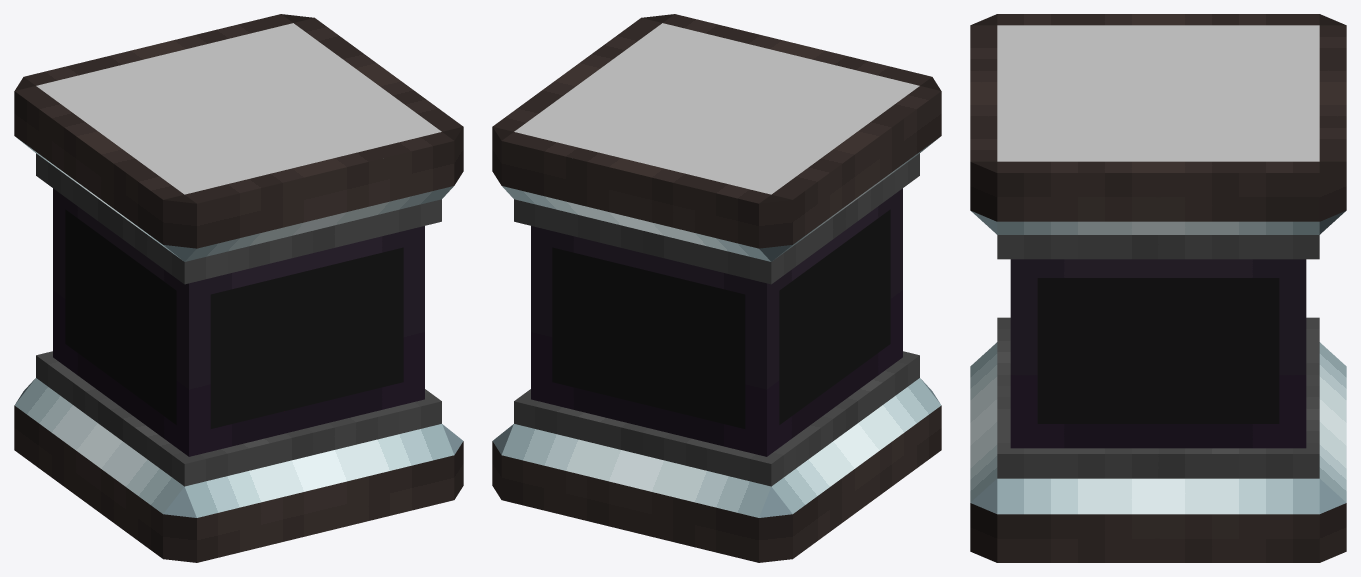
File: terrarium_ominous_inventory.obj
3 views of the same model, side by side, from view 1: azimuth 30°, elevation 25°; view 2: azimuth 150°, elevation 25°; view 3: azimuth 270°, elevation 25° (orthographic). The views are drawn at different scales.
Parts seen in each view (by area): view 1: TERRARIUM_BASE_SMALLER_LID_Cube.030, TERRARIUM_GLASS_SHORT_DARK_Cube.031, TERRARIUM_BASE_SMALLER_Cube.015; view 2: TERRARIUM_BASE_SMALLER_LID_Cube.030, TERRARIUM_GLASS_SHORT_DARK_Cube.031, TERRARIUM_BASE_SMALLER_Cube.015; view 3: TERRARIUM_BASE_SMALLER_LID_Cube.030, TERRARIUM_GLASS_SHORT_DARK_Cube.031, TERRARIUM_BASE_SMALLER_Cube.015.
Boxes of the visible parts, box(x1,y1,x2,y2) form: TERRARIUM_BASE_SMALLER_LID_Cube.030: box(14, 14, 463, 284); TERRARIUM_GLASS_SHORT_DARK_Cube.031: box(53, 188, 424, 456); TERRARIUM_BASE_SMALLER_Cube.015: box(14, 351, 463, 562); TERRARIUM_BASE_SMALLER_LID_Cube.030: box(492, 14, 941, 284); TERRARIUM_GLASS_SHORT_DARK_Cube.031: box(531, 188, 902, 456); TERRARIUM_BASE_SMALLER_Cube.015: box(492, 351, 941, 562); TERRARIUM_BASE_SMALLER_LID_Cube.030: box(970, 14, 1346, 259); TERRARIUM_GLASS_SHORT_DARK_Cube.031: box(1010, 259, 1306, 448); TERRARIUM_BASE_SMALLER_Cube.015: box(970, 317, 1346, 562).
Size of the model in its own units: 0.875 by 1 by 0.875.
